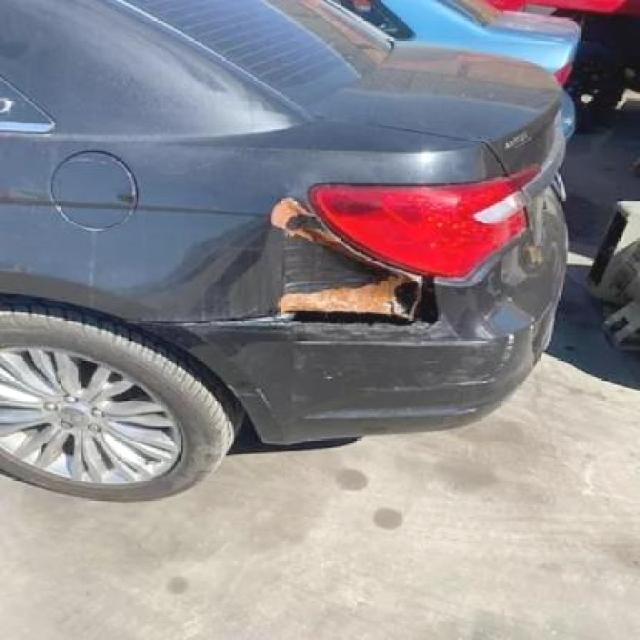minor: (300, 338, 509, 400), (226, 378, 272, 440)
moderate: (191, 188, 448, 334), (317, 405, 477, 423)
